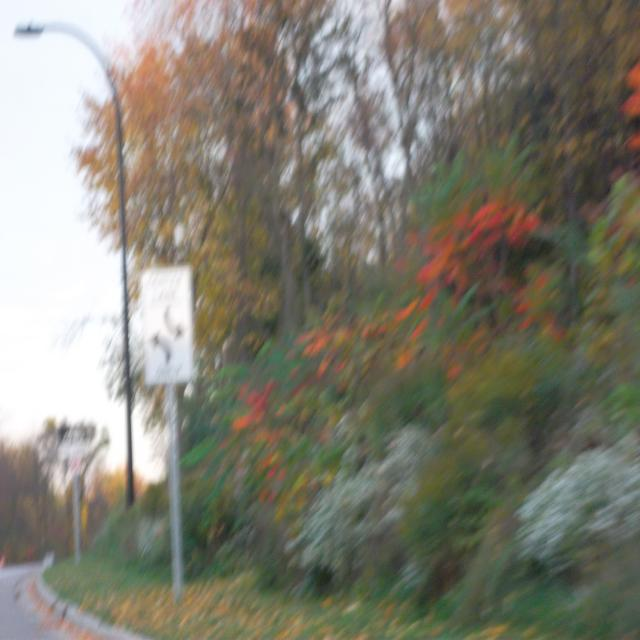regulatory: (142, 269, 195, 386)
